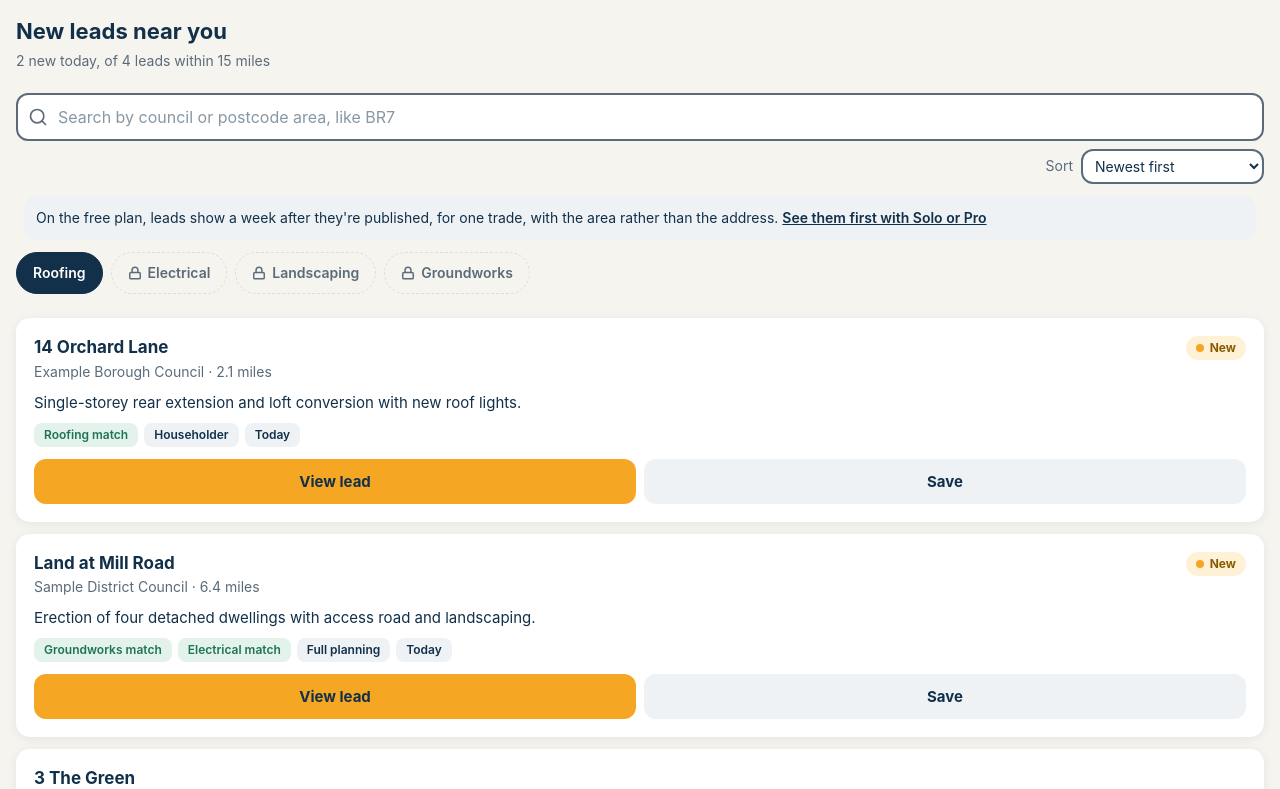
Test: LeadsView trade buttons › says why a locked trade isn't there, with a way to see the plans
Click the button "Landscaping" at (306, 273), box [235,252,376,294]
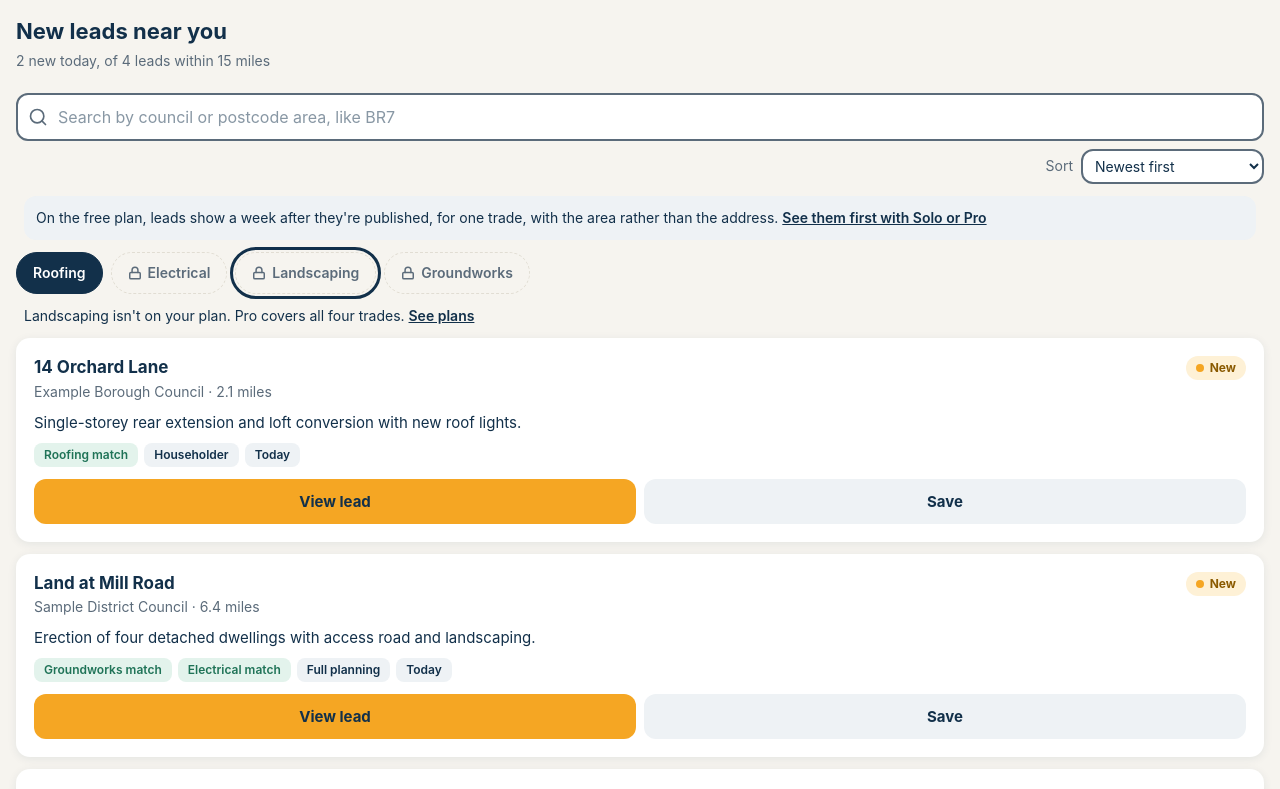
Expected: the text "Landscaping isn't on your plan. Pro covers all four trades. See plans" is shown, [24,307,474,324]
